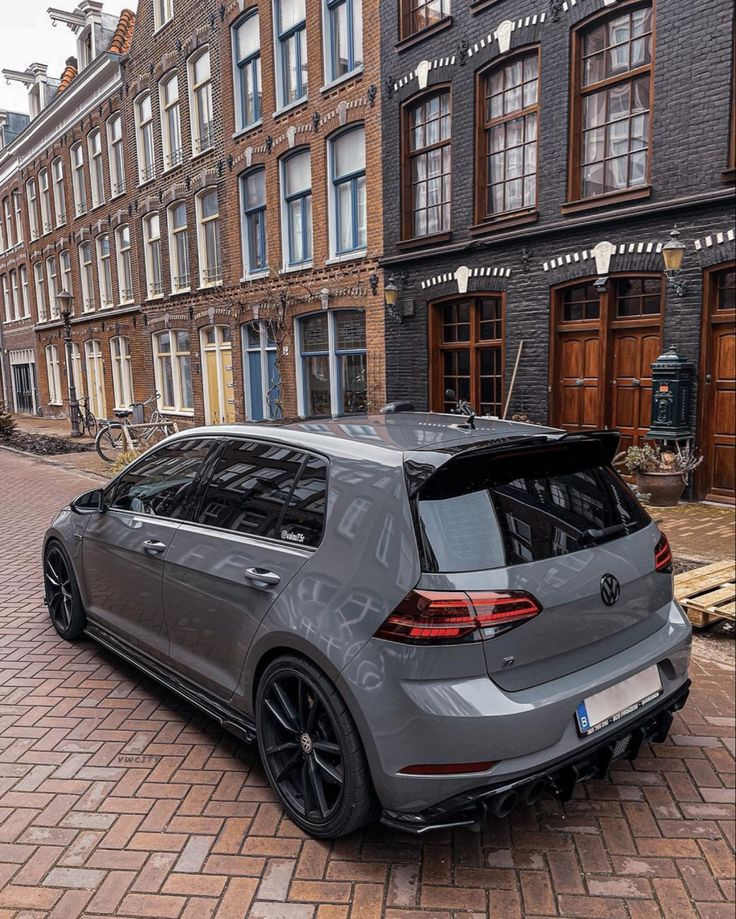car: (33, 389, 702, 889)
